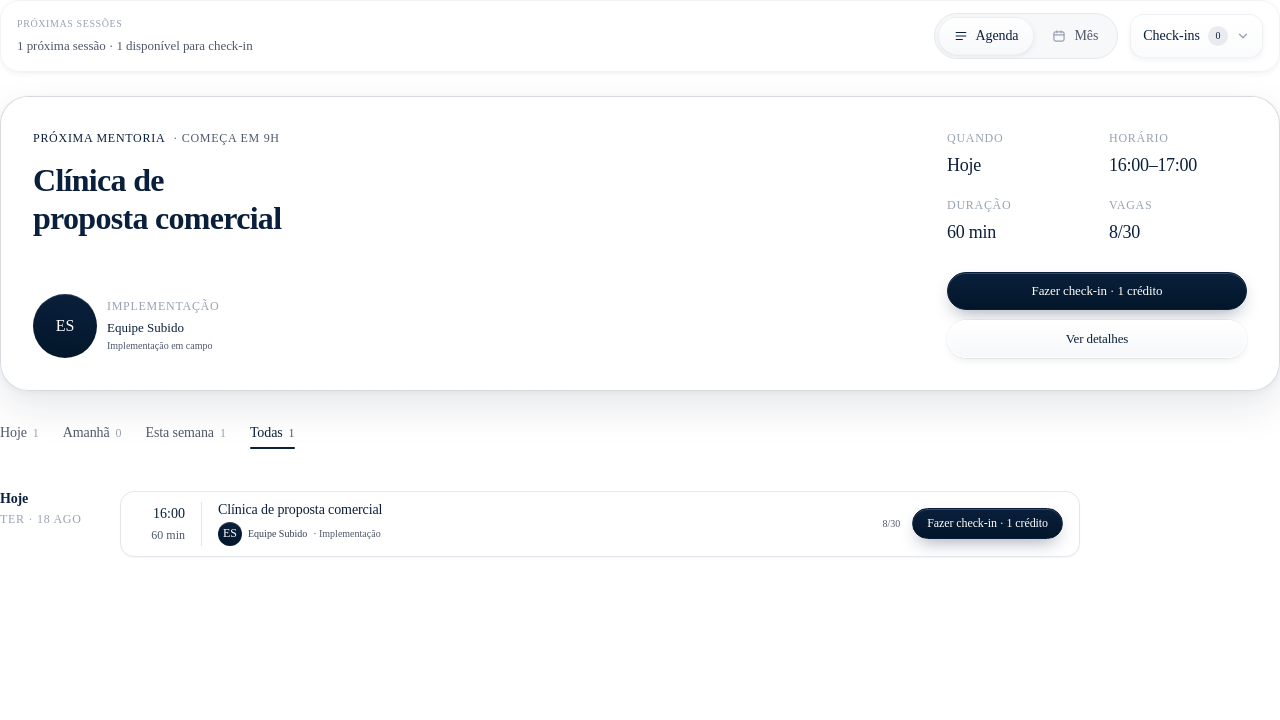
Test: ações de check-in nas mentorias › explica a falta de saldo antes de tentar reservar a vaga
Step 1. Click the button "Fazer check-in · 1 crédito" below "Duração" → [1097, 291], box [947,272,1247,310]
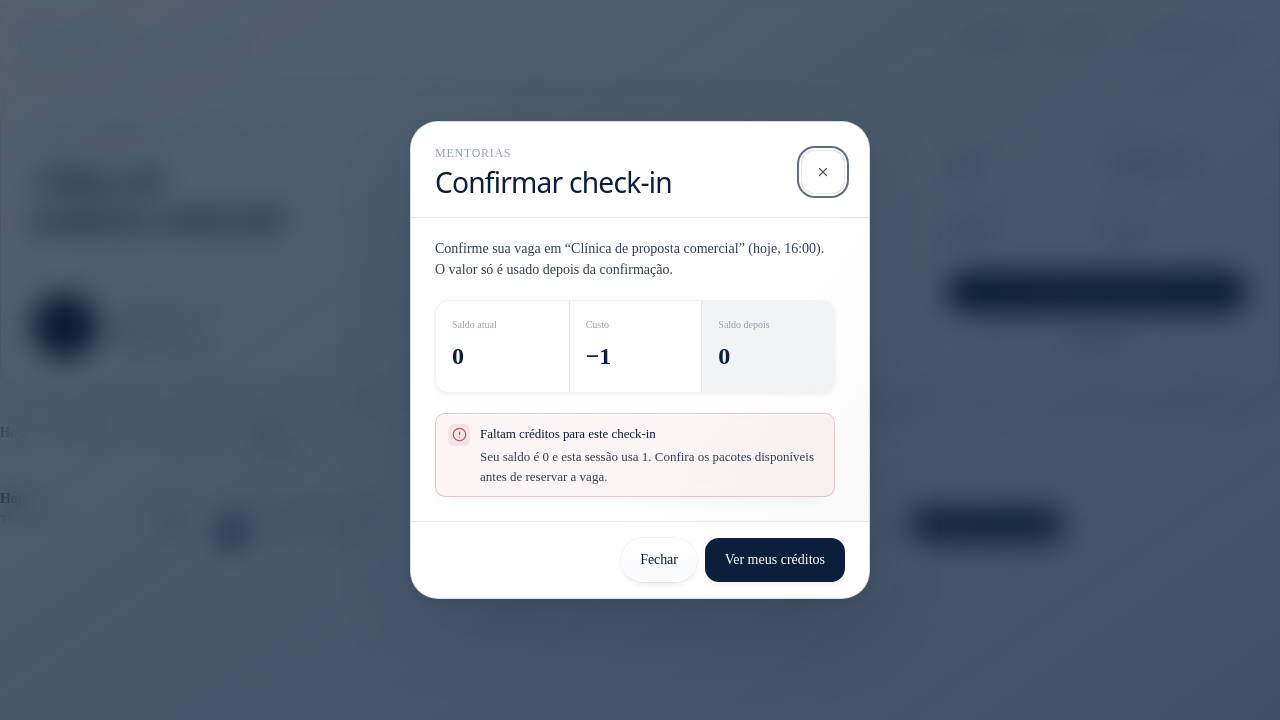
Expected: the text "Faltam créditos para este check-in" is shown, [480,426,656,440]
